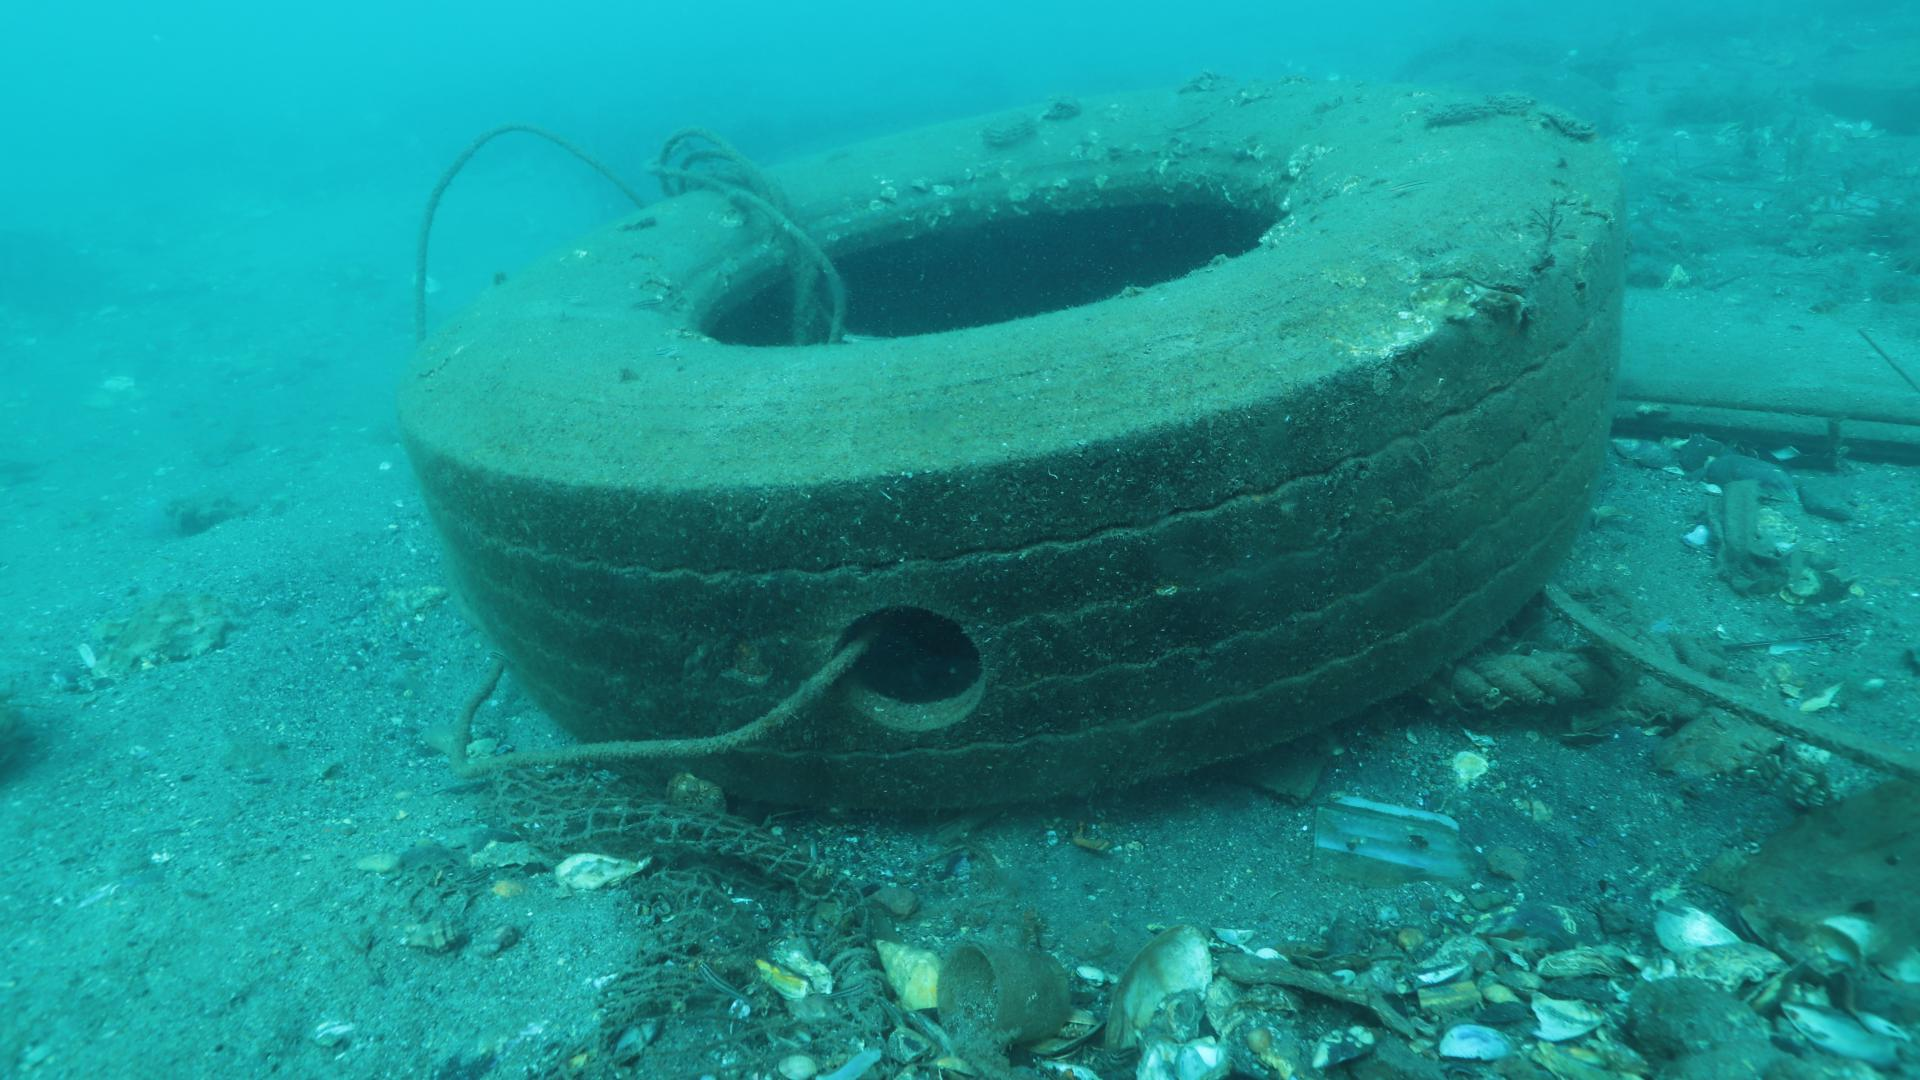bundle of ropes: (653, 121, 847, 340)
fish net: (477, 760, 890, 963)
rope: (444, 632, 874, 779), (407, 115, 634, 338), (1427, 618, 1636, 724)
tire: (402, 76, 1629, 811)
